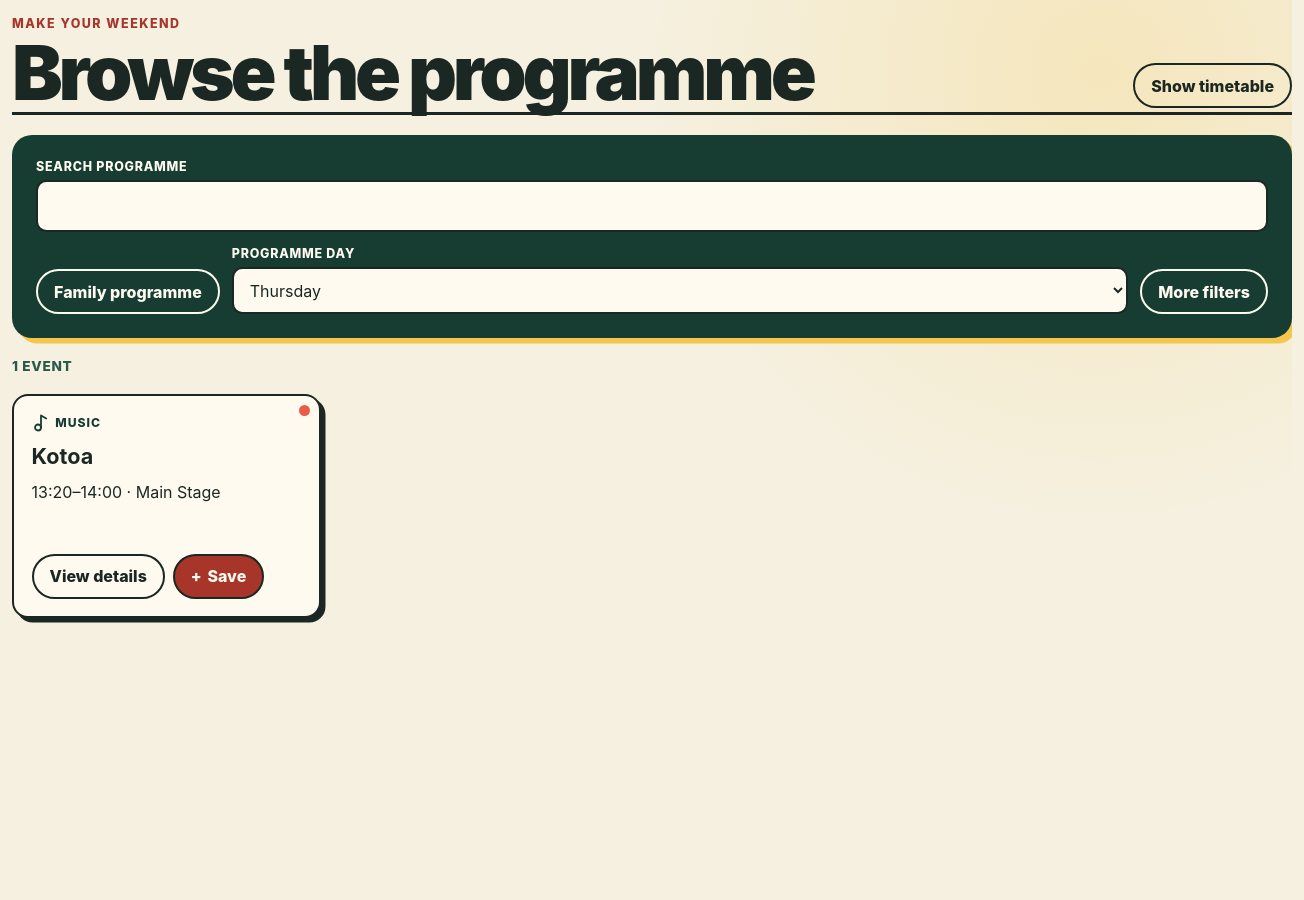
Test case: BrowseView › defaults to Thursday and searches across days until the query is cleared
Expected: the dropdown labelled "Programme Day" shows "Thursday", [232,267,1128,314]
Expected: the element "Kotoa" is shown, [12,394,321,618]
Type "Leaf" into the search field labelled "Search programme".
click(652, 206); type("Leaf")  # box [36,180,1268,232]
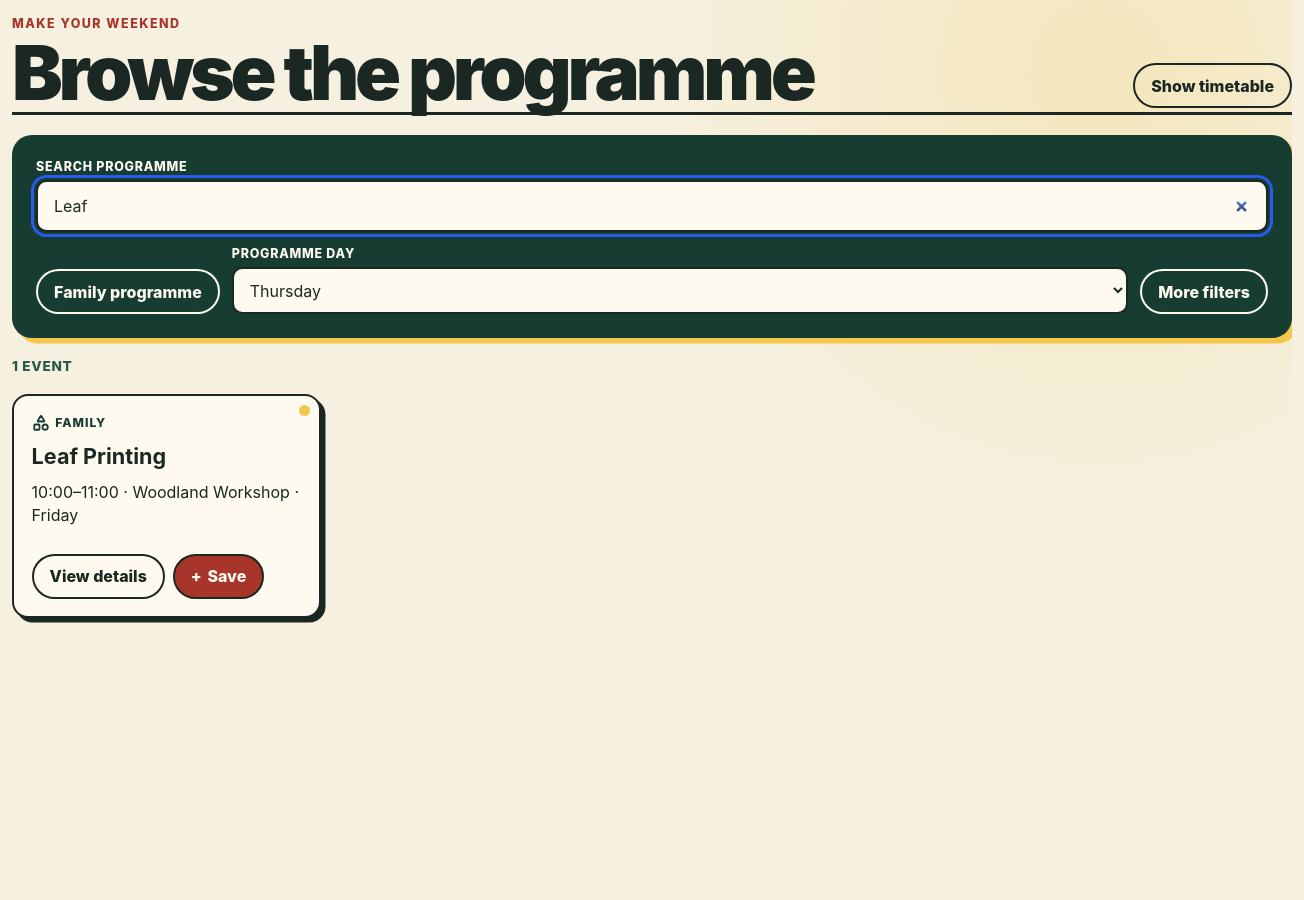
Now the element "Leaf Printing" is shown, box [12,394,321,618]
Now the text "Friday" is shown, box [32,505,78,525]
Clear the search field labelled "Search programme" at (652, 206), box [36,180,1268,232]
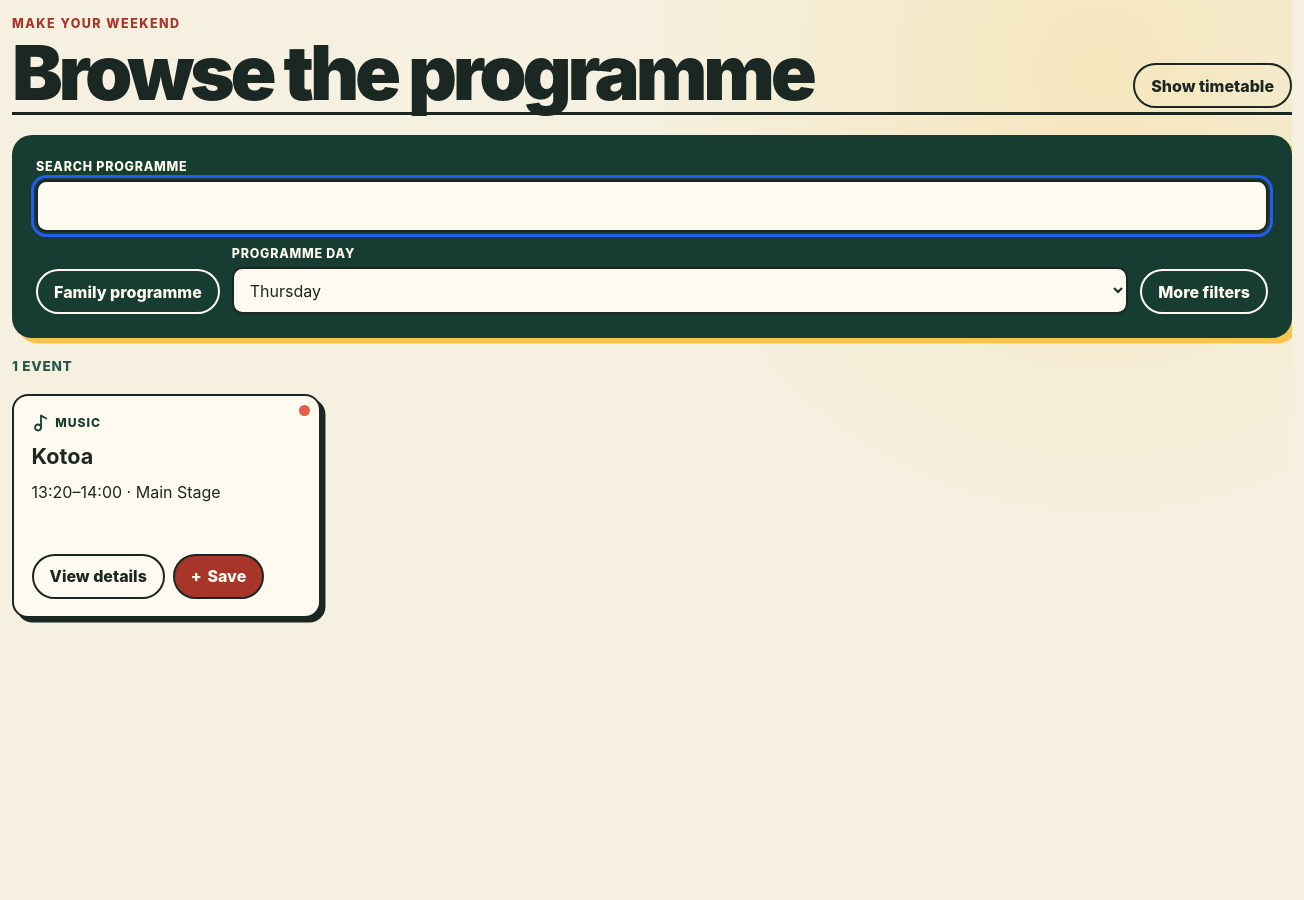
Now the element "Kotoa" is shown, box [12,394,321,618]
Now the heading "Leaf Printing" is gone
